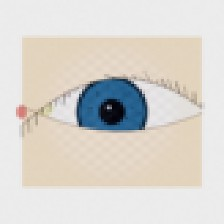pinguecula_lesion: (27, 94, 63, 123)
